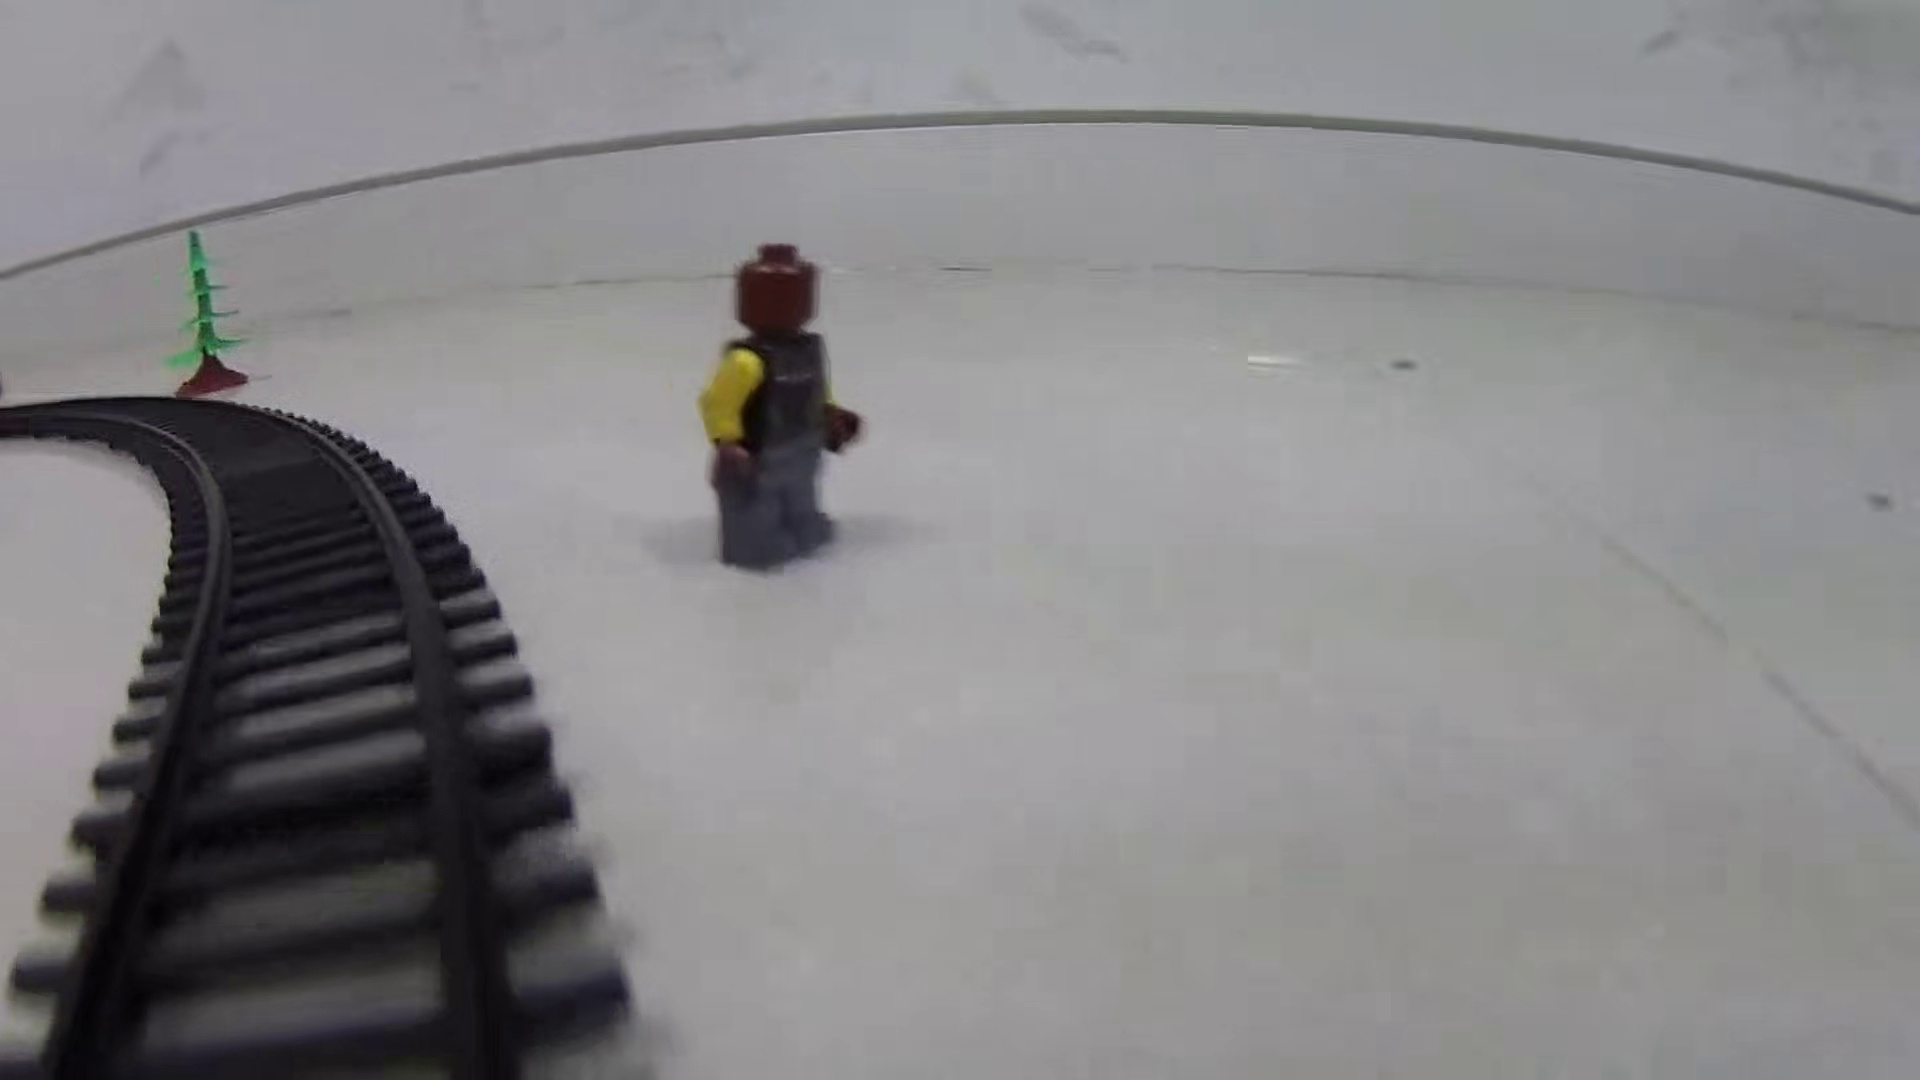people: (701, 246, 866, 575)
tree: (172, 228, 251, 398)
